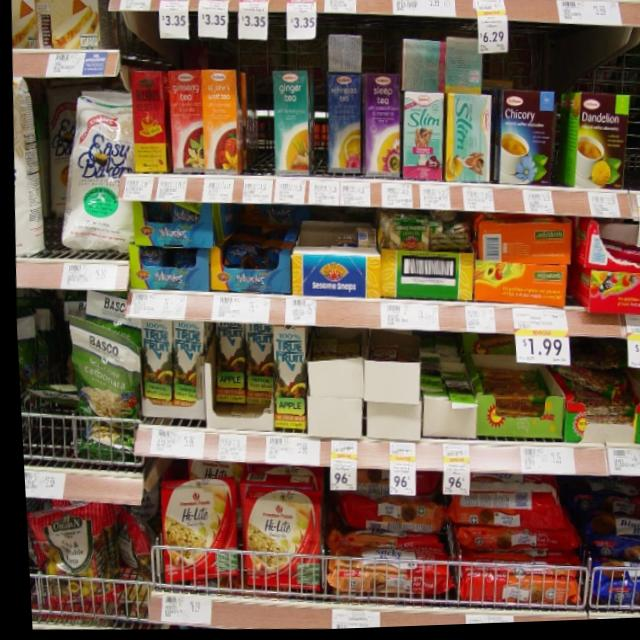q118: (561, 86, 634, 200)
